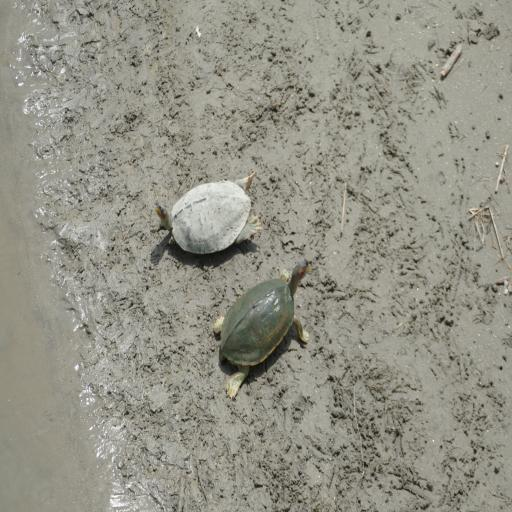turtle: (214, 242, 320, 406), (146, 172, 266, 256)
